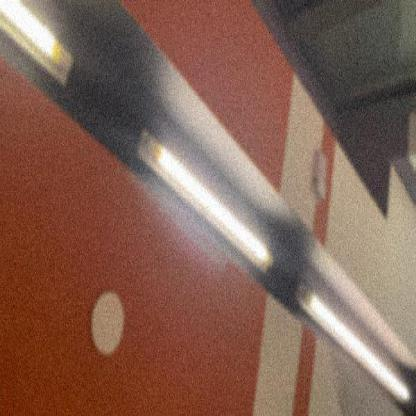light_on: (129, 108, 277, 282), (290, 266, 413, 407), (0, 0, 80, 98)
